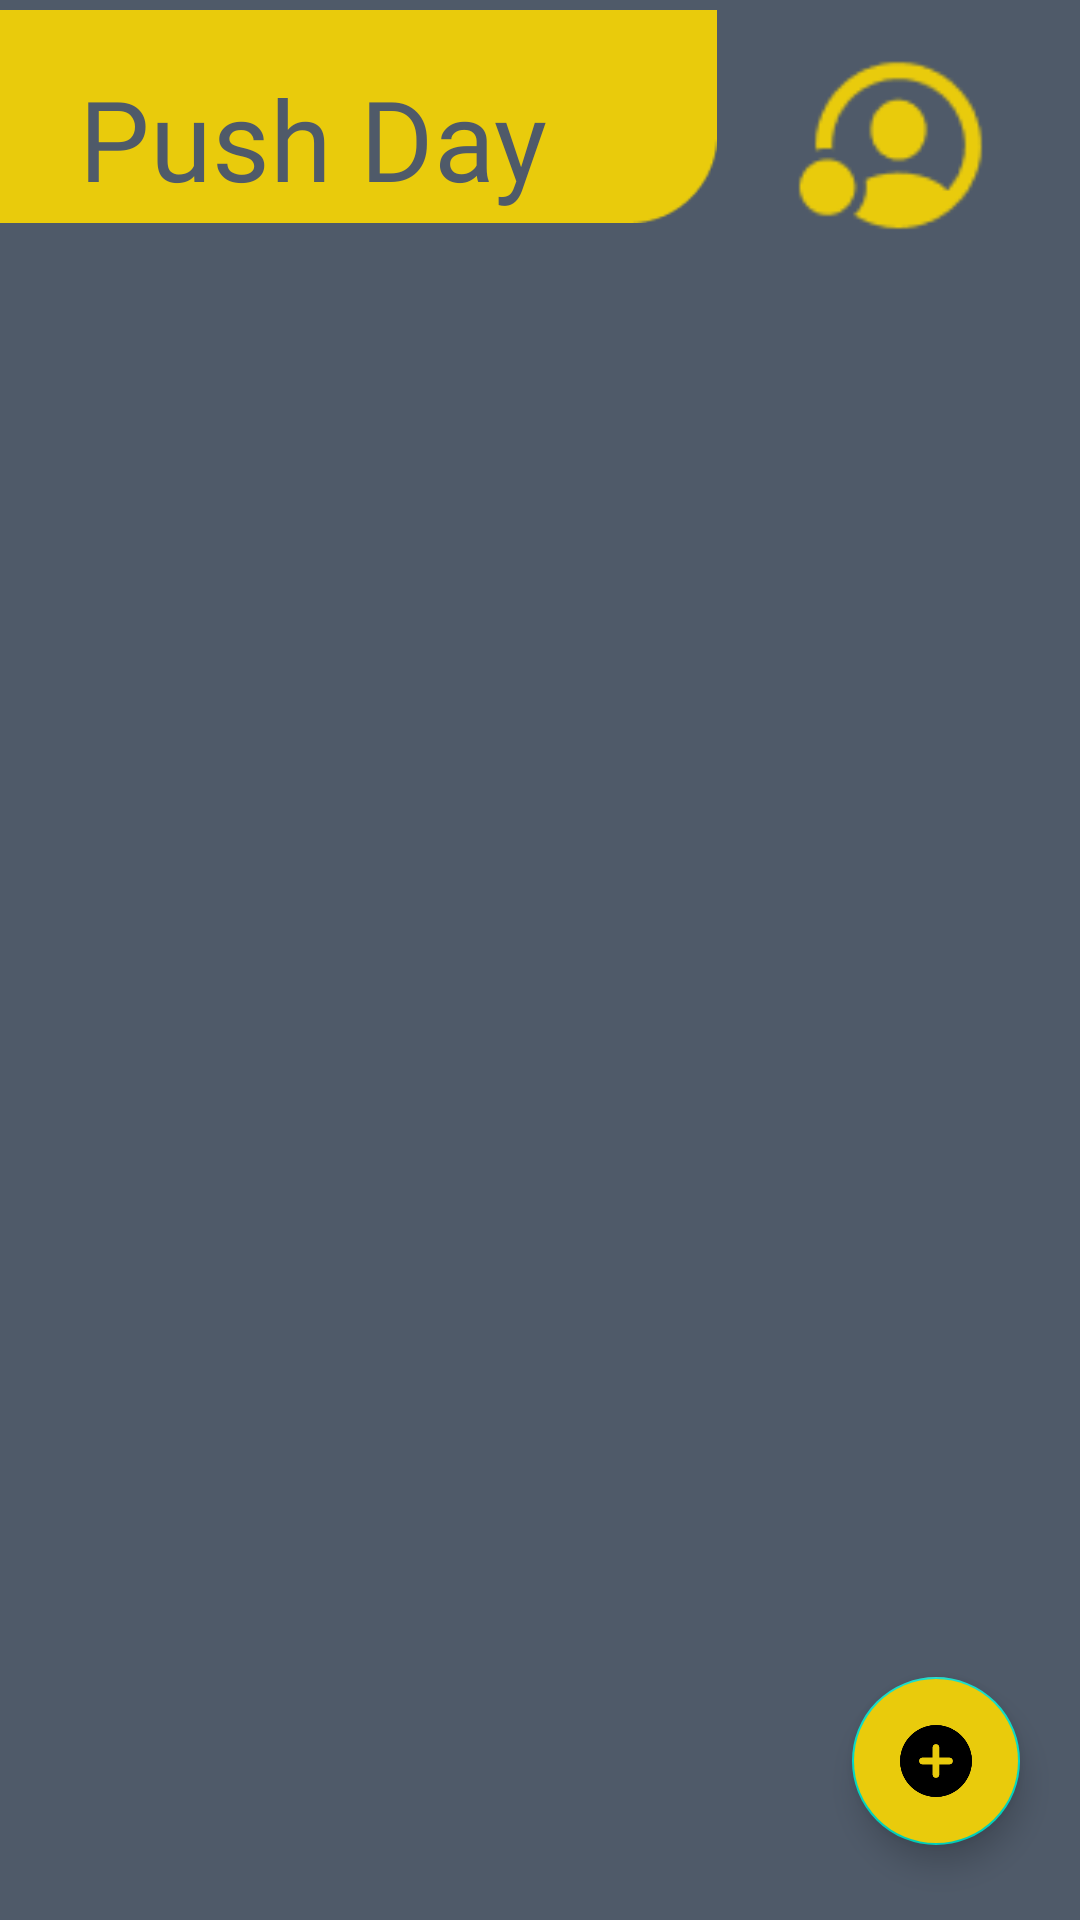

Icons on this 1080px×1920px Android screen, each with the point to tap as point (x, y):
add: point (936, 1761)
